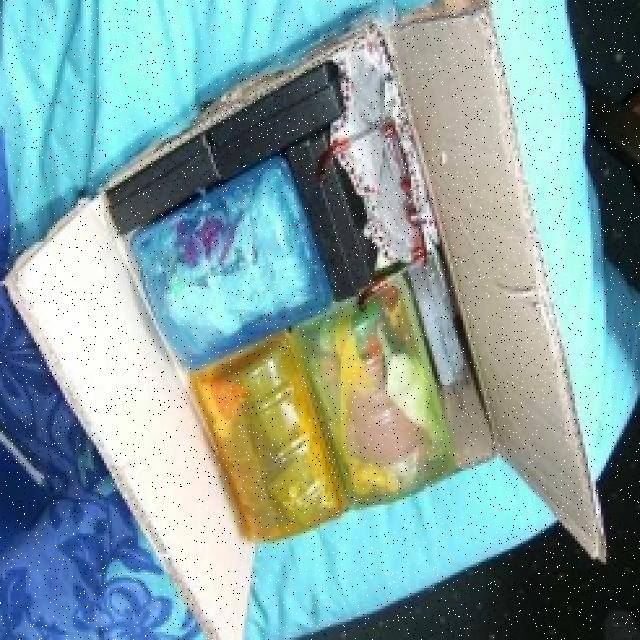box: (0, 3, 598, 640)
